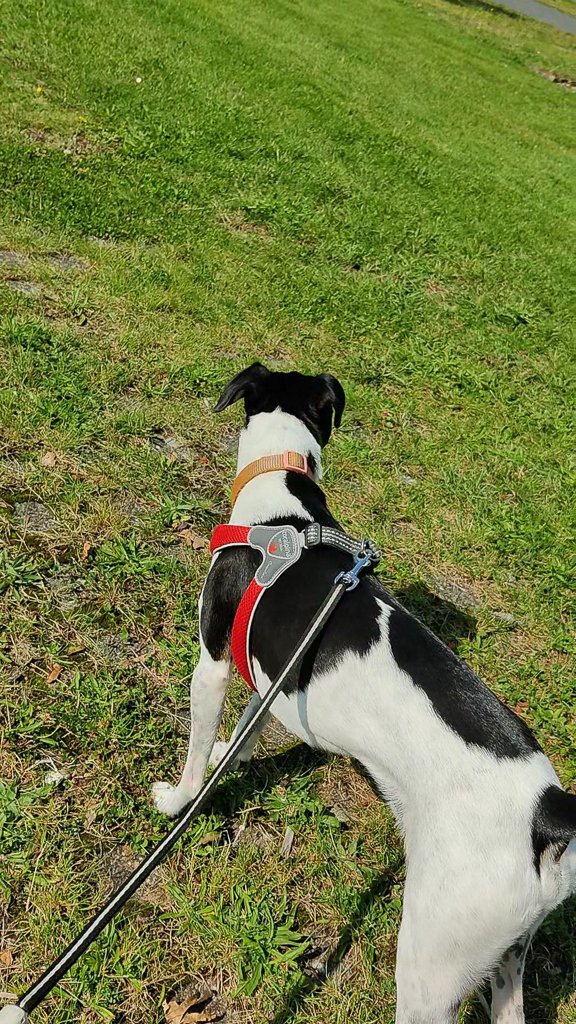Dog: (128, 343, 576, 1024)
